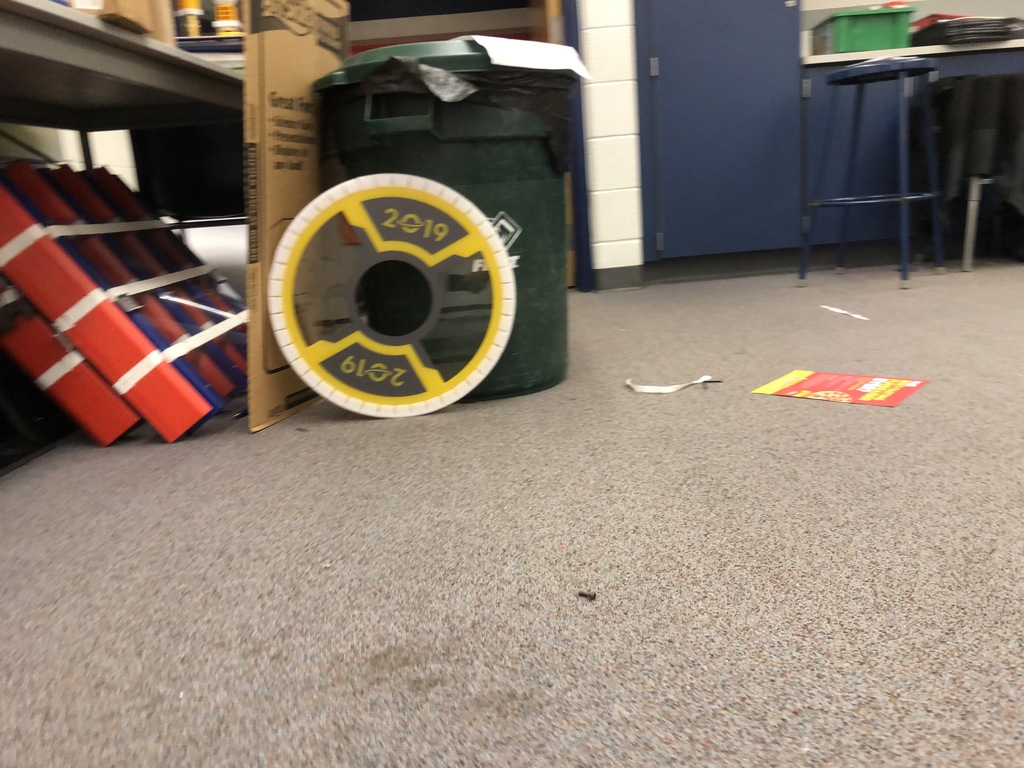hatch_panel: (260, 166, 522, 432)
